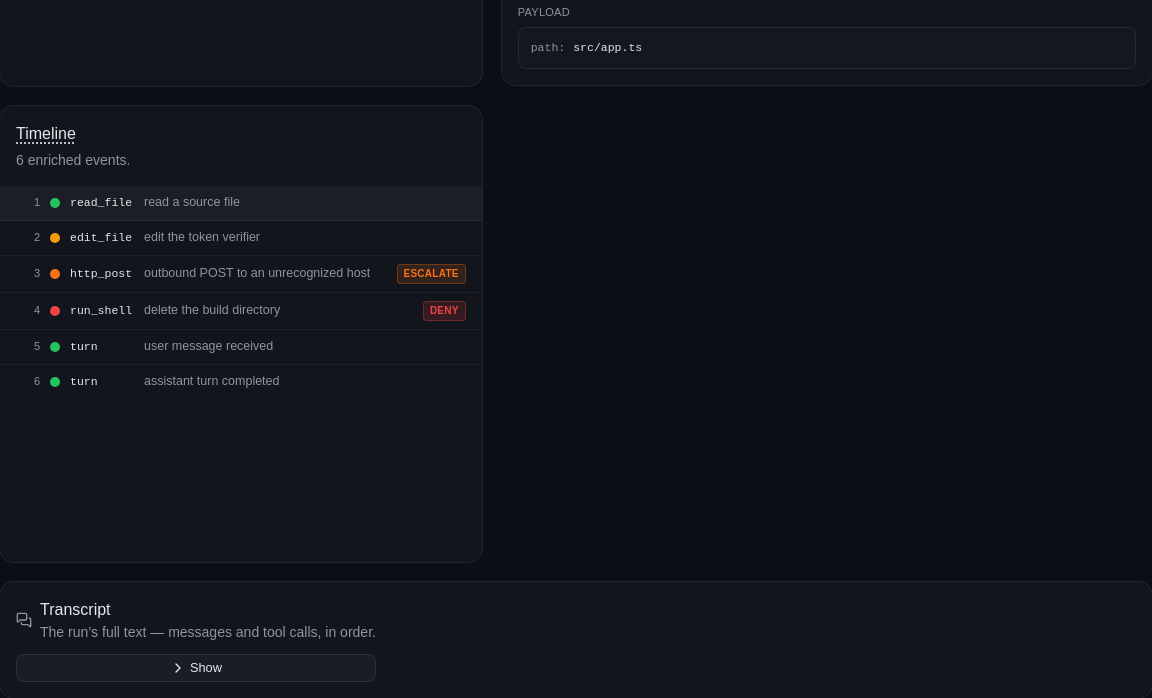
Test: RunView › reveals the full-text transcript when expanded
(page scrolled)
Check: the text "Transcript" is shown, box [40, 601, 110, 618]
Check: the text "Please refactor the auth module for clarity." is not shown
What coordinates should you click on to do the following:
click the button "Show"
I would click on:
 (196, 668)
Its box is [16, 654, 376, 682].
(page scrolled)
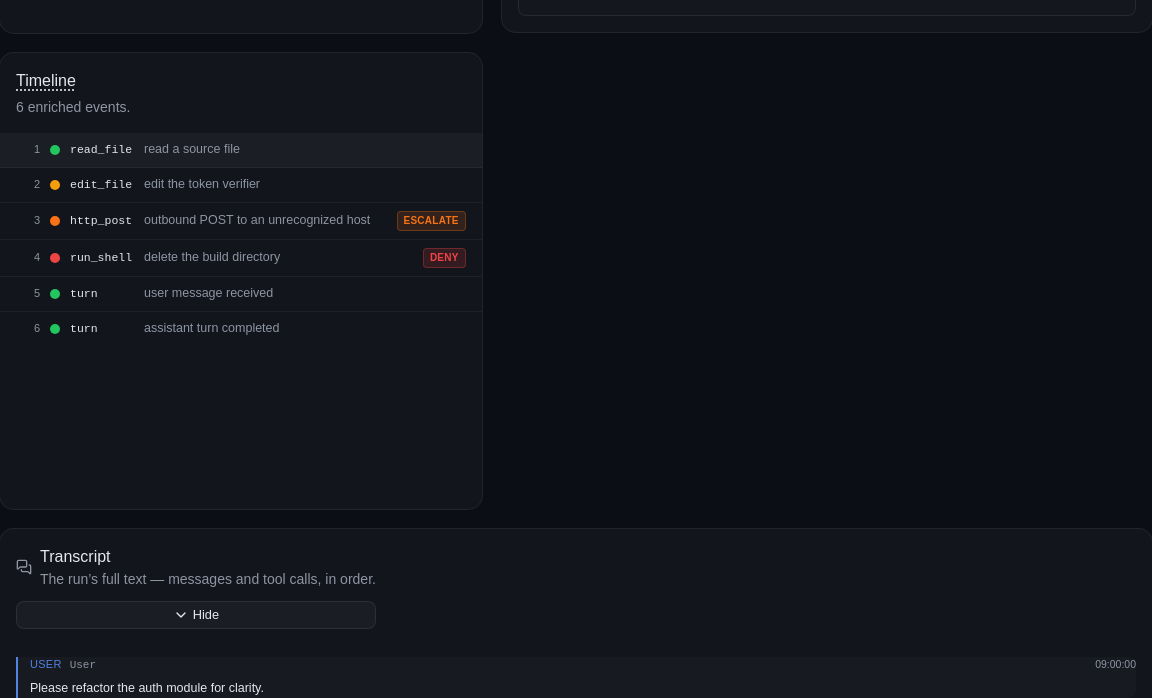
Check: the text "Please refactor the auth module for clarity." is shown, box [30, 681, 264, 695]
